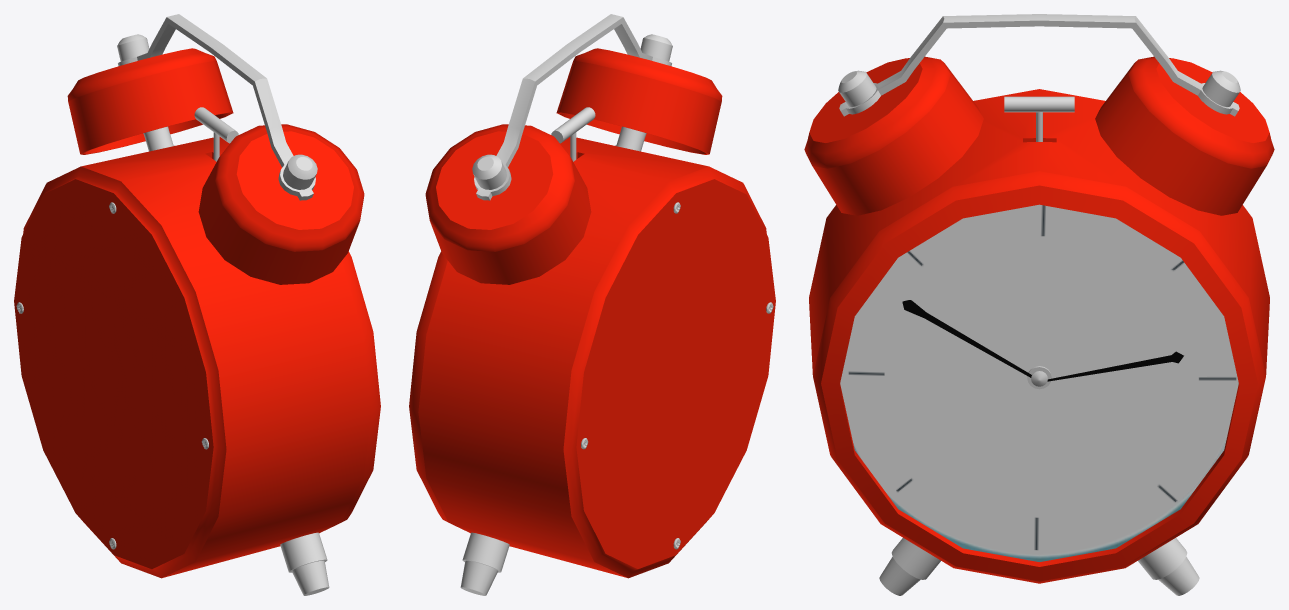
File: Clock.fbx
3 views of the same model, side by side, from view 1: azimuth 30°, elevation 25°; view 2: azimuth 150°, elevation 25°; view 3: azimuth 270°, elevation 25° (orthographic). The views are drawn at different scales.
Visible parts, largest first — view 1: Clock, DoubleBells, MetalBracket, Hammer; view 2: Clock, DoubleBells, MetalBracket, Hammer; view 3: Clock, DoubleBells, MetalBracket, Hammer.
Boxes of the visible parts, x1,y1,x2,y2 form: Clock: [14, 137, 380, 578]; DoubleBells: [67, 14, 364, 284]; MetalBracket: [280, 532, 329, 595]; Hammer: [194, 107, 238, 161]; Clock: [409, 137, 775, 578]; DoubleBells: [425, 14, 722, 284]; MetalBracket: [460, 532, 509, 595]; Hammer: [551, 107, 595, 161]; Clock: [809, 89, 1269, 583]; DoubleBells: [804, 14, 1274, 215]; MetalBracket: [879, 538, 1199, 595]; Hammer: [1004, 96, 1074, 141].
Bounding box in the file's own units: 22.75 × 64.04 × 48.7.
4 materials, 1 textured.
